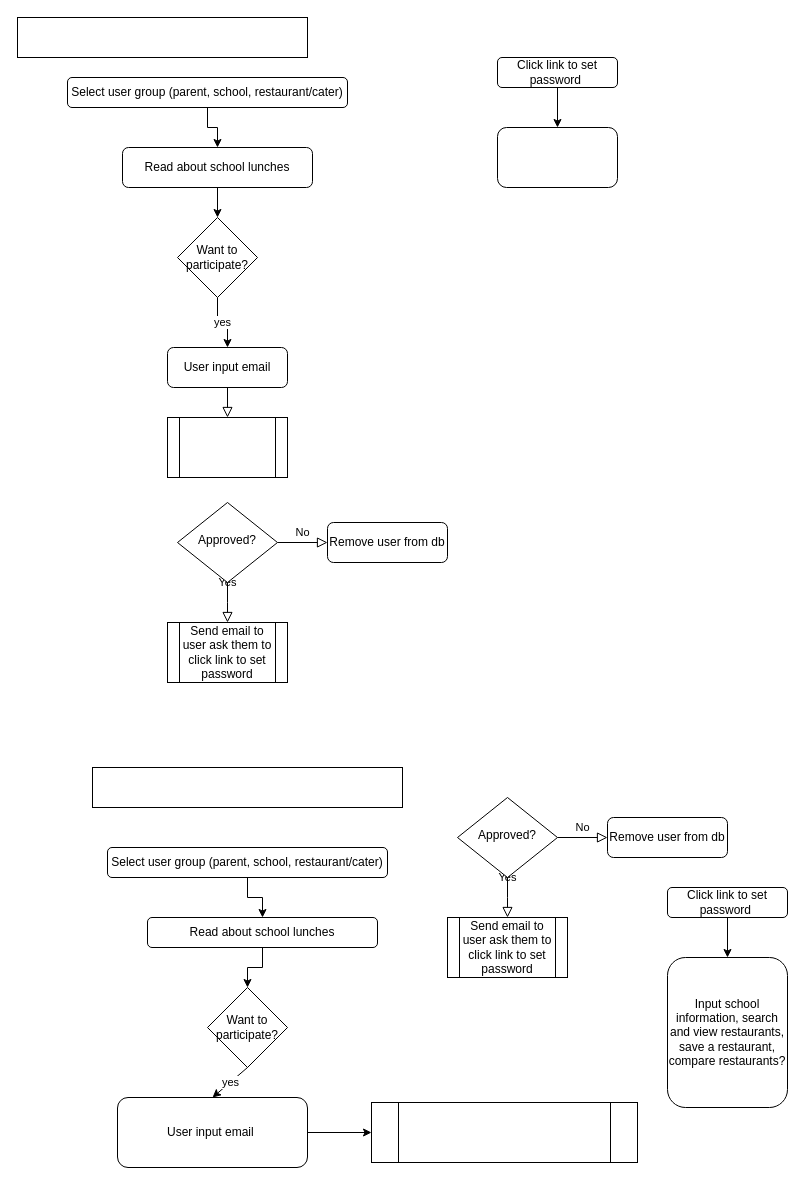
The diagram is 805 pixels wide and 1185 high, and some of its shapes have lost their labels. Here are the shapes that lost their labels. From the top down, the centre of each, then its label:
At (x=162, y=37): "User flow for New Restaurant Owners".
At (x=557, y=157): "Input restaurant information, menu information, check that info is correct".
At (x=227, y=447): "Send email to user".
At (x=247, y=787): "User flow for school".
At (x=504, y=1132): "Send email to user asking them to wait for an email or phone call from me".
